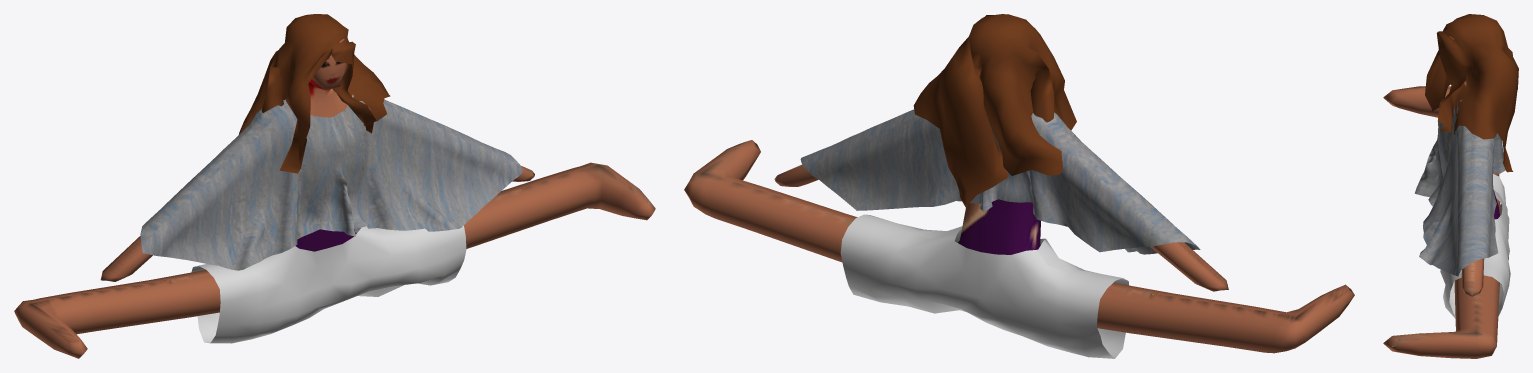
File: doll2.dae
3 views of the same model, side by side, from view 1: azimuth 30°, elevation 25°; view 2: azimuth 150°, elevation 25°; view 3: azimuth 270°, elevation 25° (orthographic). The views are drawn at different scales.
Visible parts, largest first — view 1: top, body, bottom, hair; view 2: body, top, bottom, hair; view 3: top, hair, body, bottom.
Boxes of the visible parts, <box> form: top: <box>140,94,522,270</box>; body: <box>14,38,655,358</box>; bottom: <box>191,225,466,343</box>; hair: <box>239,14,390,173</box>; body: <box>684,140,1354,353</box>; top: <box>800,109,1200,254</box>; bottom: <box>840,214,1129,358</box>; hair: <box>913,14,1076,207</box>; top: <box>1414,100,1505,276</box>; hair: <box>1425,14,1518,172</box>; body: <box>1383,36,1500,358</box>; bottom: <box>1440,174,1510,318</box>.
Size of the model in its own units: 3.76 by 0.8433 by 1.82.
Materials: 4 (2 with a texture image).
